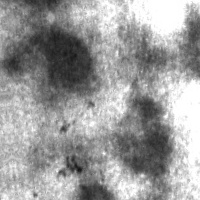patches: (0, 18, 94, 99), (111, 93, 177, 181), (126, 9, 199, 86), (70, 173, 118, 199)
